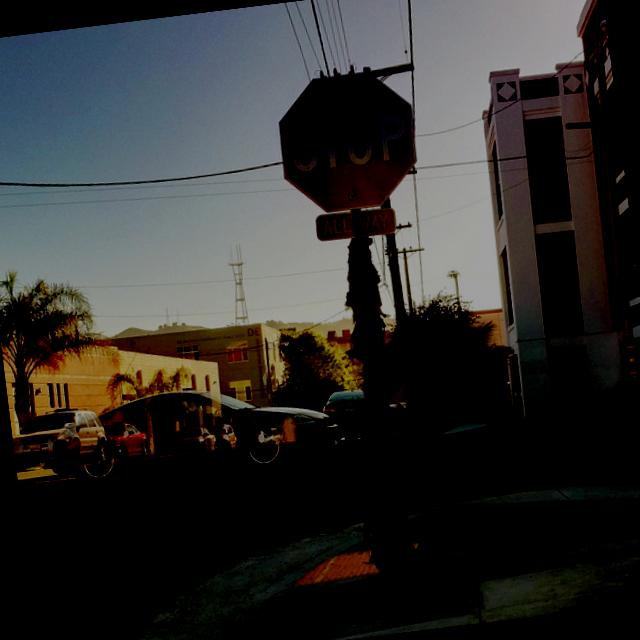Vehicle: (43, 372, 340, 494), (9, 402, 111, 474), (318, 388, 368, 441), (102, 420, 150, 460), (389, 402, 405, 416)
